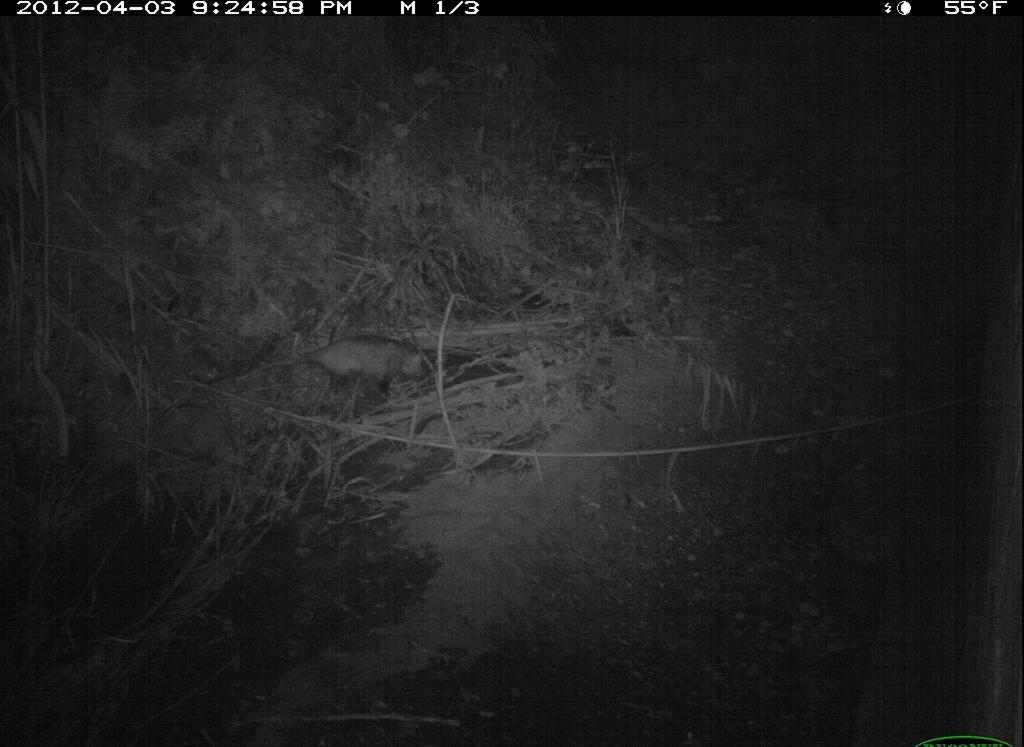opossum: (245, 325, 447, 412)
